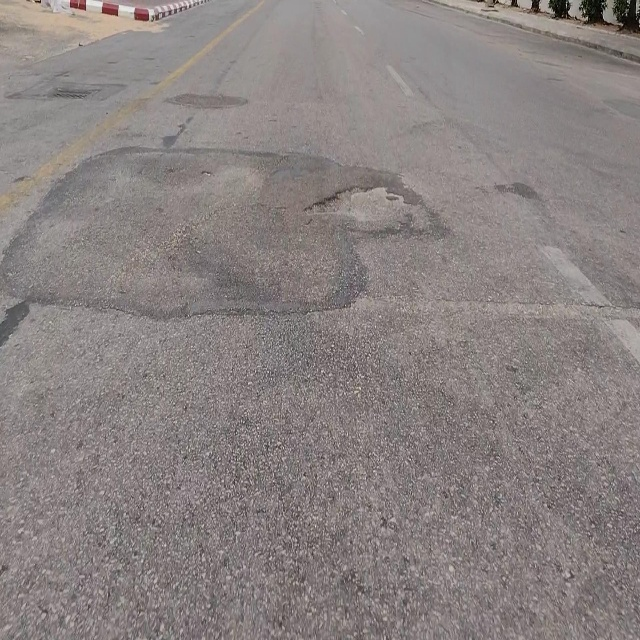pothole: (311, 180, 400, 227)
